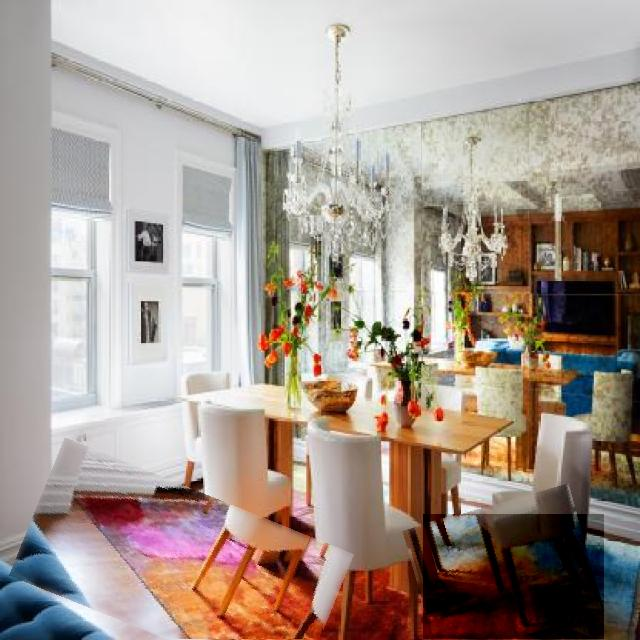floor: (32, 495, 316, 640), (423, 515, 604, 639), (294, 465, 315, 523), (305, 624, 323, 639)
